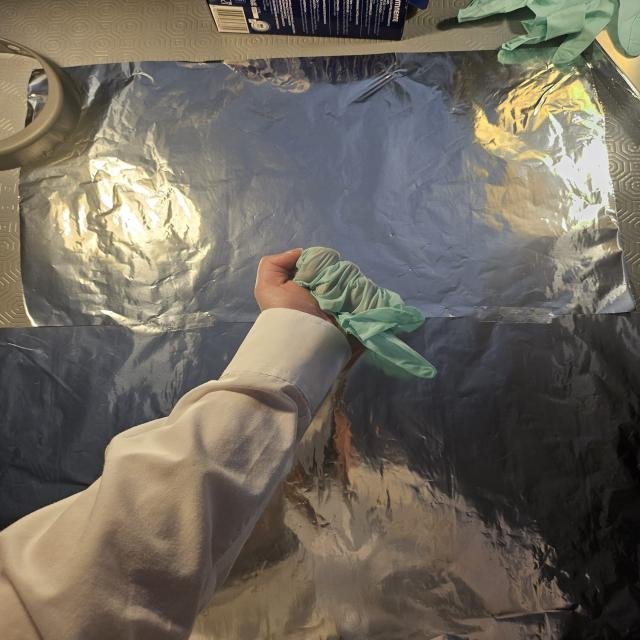glove_partial: (251, 244, 439, 386)
